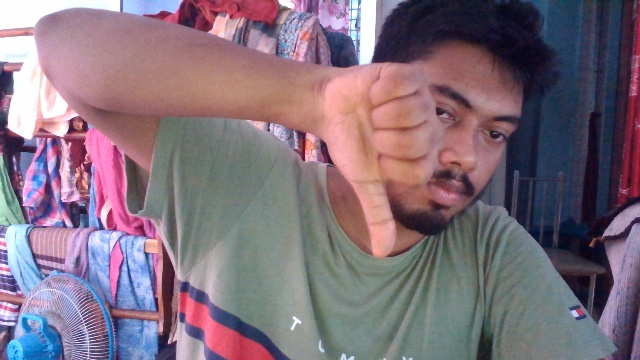no: (322, 49, 444, 262)
